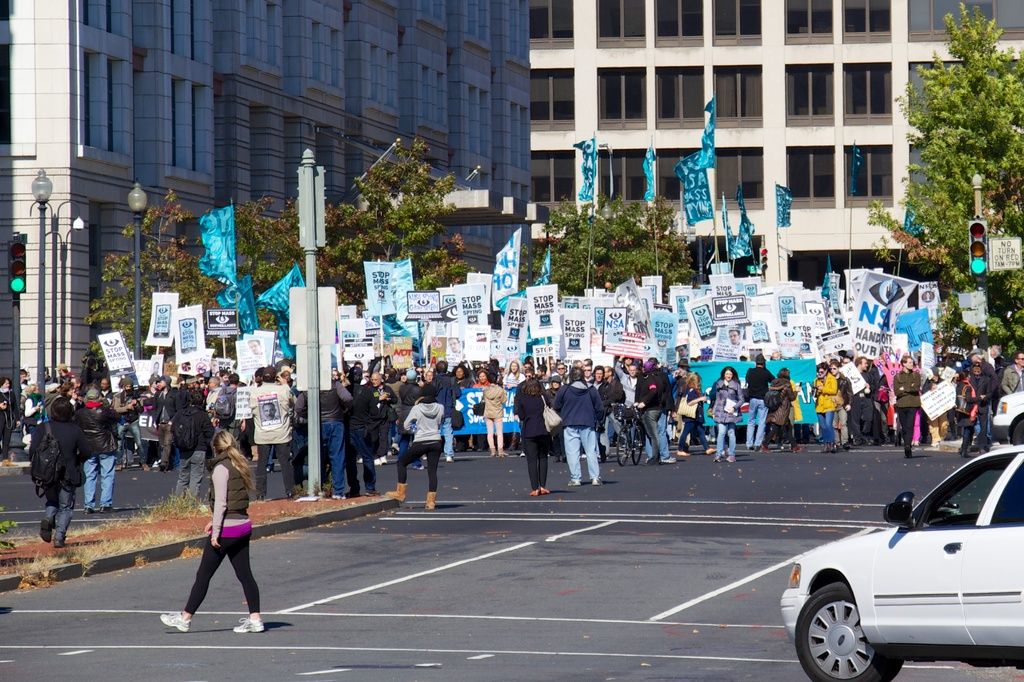cars: (781, 454, 1023, 651)
